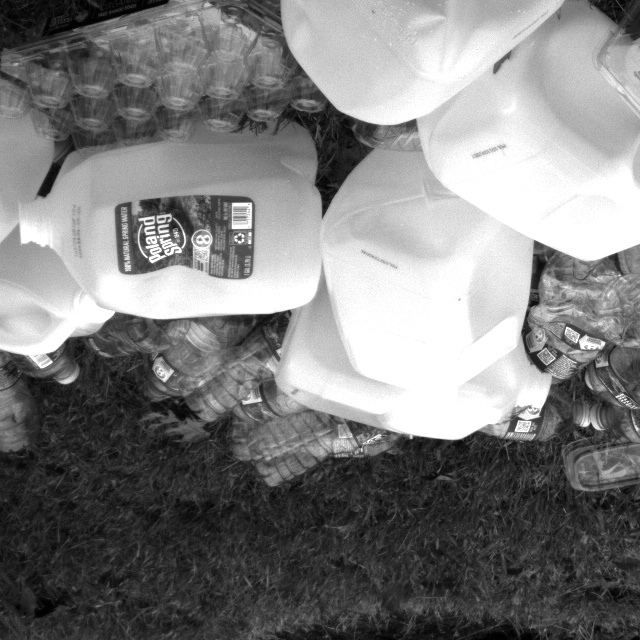bottle: (235, 414, 387, 489), (582, 333, 640, 407)
can: (414, 0, 640, 256), (19, 130, 320, 315), (319, 138, 533, 389), (273, 285, 554, 442), (277, 0, 571, 129), (0, 197, 112, 357), (0, 41, 59, 261)
container: (0, 0, 329, 163), (557, 428, 640, 493)
